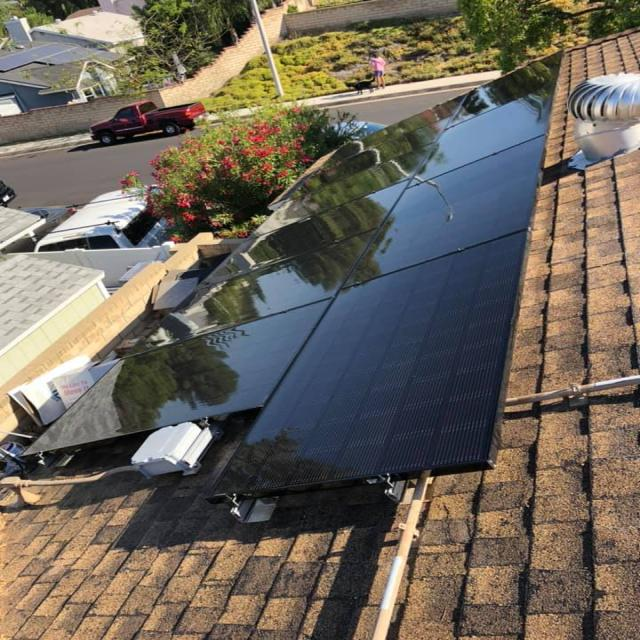clean-solar-panel: (28, 55, 560, 501)
